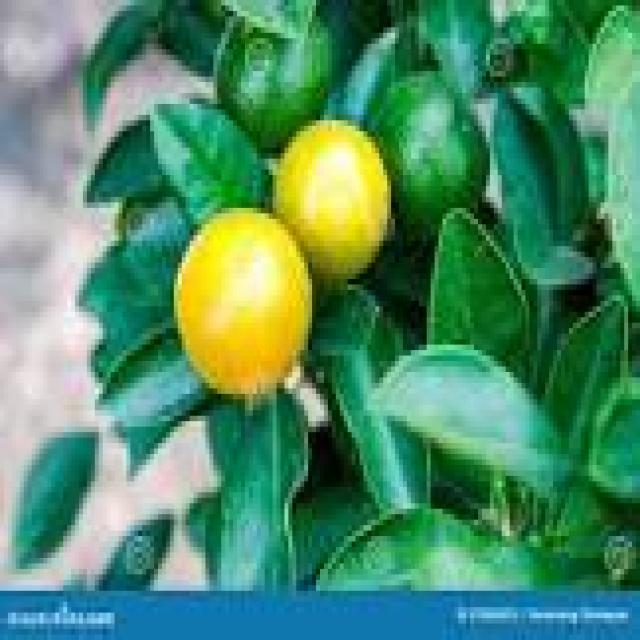orange: (174, 208, 308, 394), (371, 71, 486, 235), (273, 120, 387, 279), (217, 16, 332, 148)
